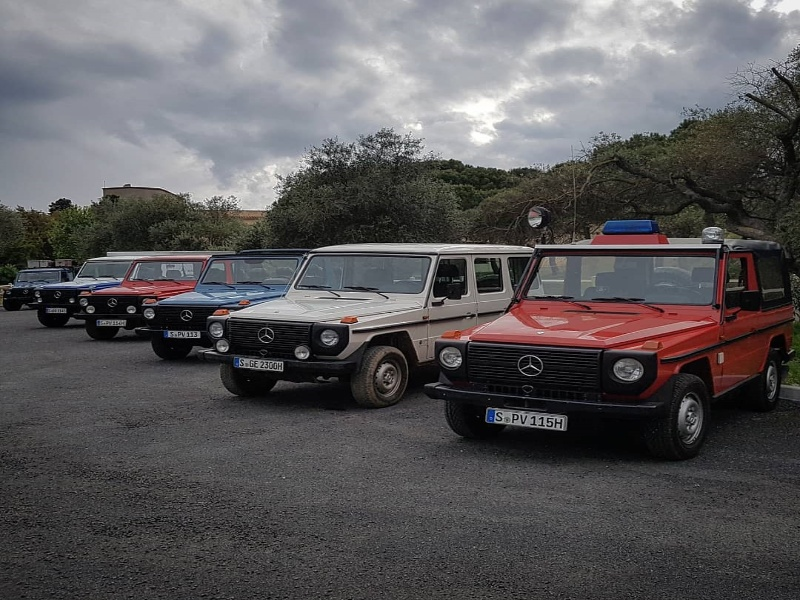car: (424, 220, 796, 458), (198, 242, 545, 409), (135, 250, 306, 359), (75, 255, 209, 339), (30, 257, 138, 326), (2, 268, 66, 310)
plate: (483, 408, 569, 434), (233, 357, 283, 373), (164, 331, 201, 339), (98, 320, 126, 327), (47, 308, 67, 313)
